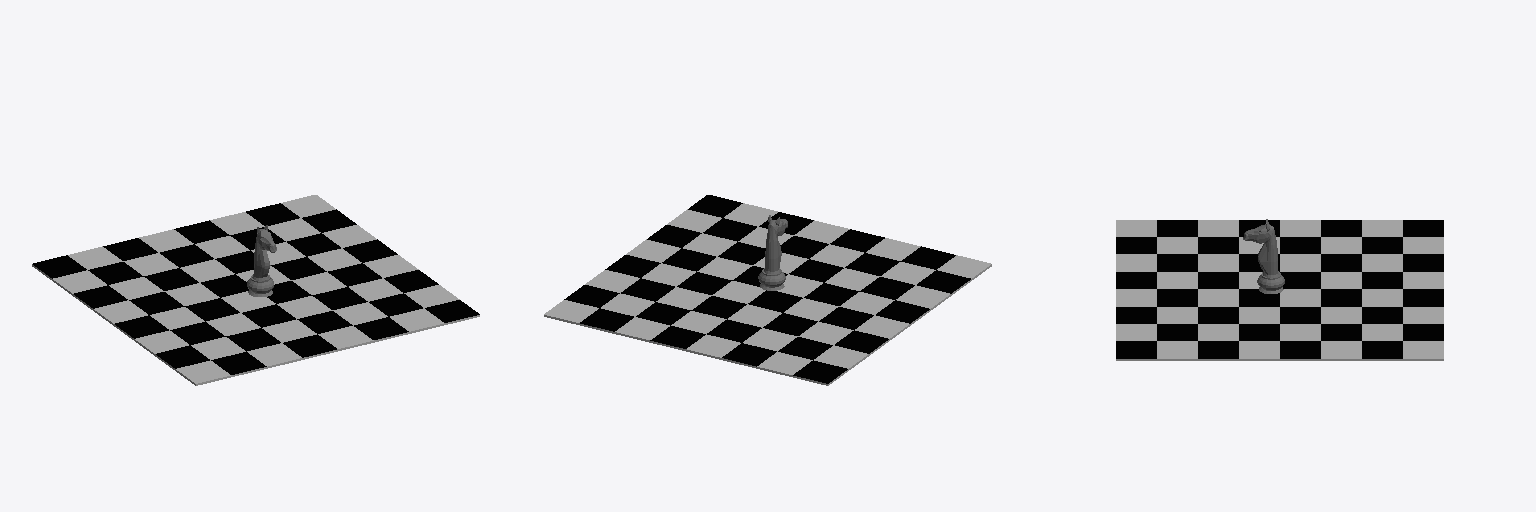
Rendered from knight.obj.
3 views of the same model, side by side, from view 1: azimuth 30°, elevation 25°; view 2: azimuth 150°, elevation 25°; view 3: azimuth 270°, elevation 25° (orthographic).
Parts seen in each view (by area): view 1: board, Knight.001; view 2: board, Knight.001; view 3: board, Knight.001.
Boxes of the visible parts, <box> form: board: <box>32,195,479,385</box>; Knight.001: <box>247,225,276,296</box>; board: <box>544,195,991,385</box>; Knight.001: <box>758,215,787,290</box>; board: <box>1116,220,1443,360</box>; Knight.001: <box>1243,219,1284,293</box>.
Bounding box in the file's own units: 12.74 × 3.02 × 12.74.